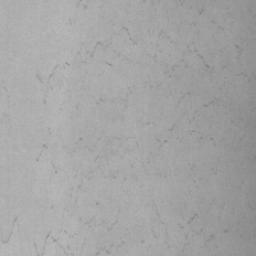Silk spot: (94, 39, 112, 49), (45, 231, 59, 243), (96, 246, 110, 256), (187, 213, 199, 224)
